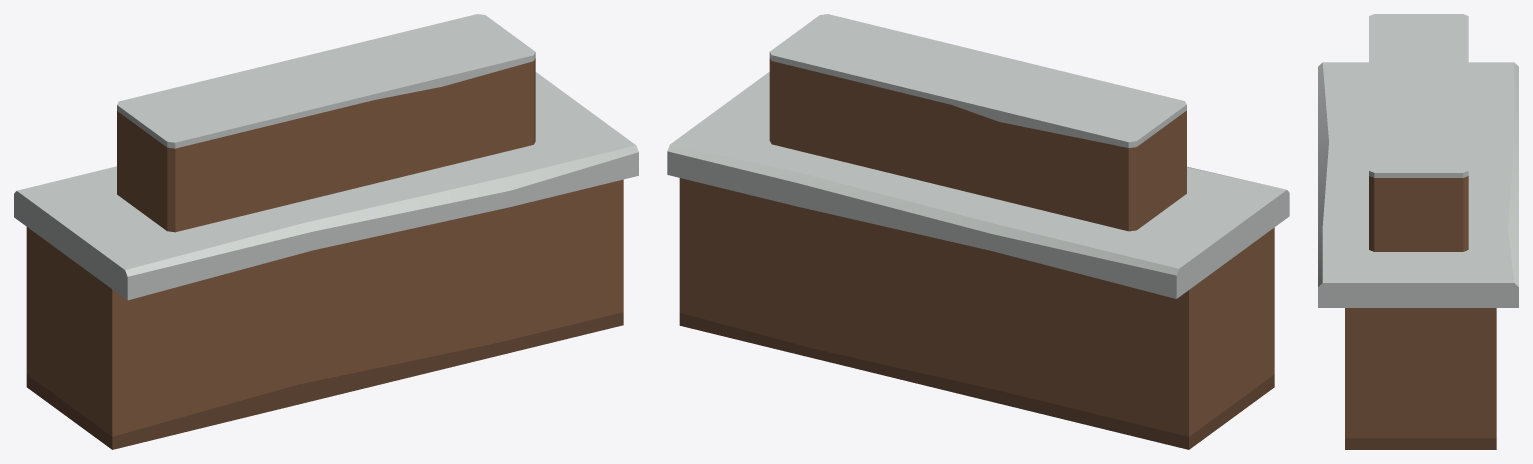
Rendered from Prop_TellerDesk_01.glb.
3 views of the same model, side by side, from view 1: azimuth 30°, elevation 25°; view 2: azimuth 150°, elevation 25°; view 3: azimuth 270°, elevation 25° (orthographic). The views are drawn at different scales.
Visible parts, largest first — view 1: SM_Prop_TellerDesk_01; view 2: SM_Prop_TellerDesk_01; view 3: SM_Prop_TellerDesk_01.
Part boxes in pixels (x1,y1,x2,y2): SM_Prop_TellerDesk_01: [14, 14, 638, 449]; SM_Prop_TellerDesk_01: [667, 14, 1289, 449]; SM_Prop_TellerDesk_01: [1318, 14, 1518, 449].
Bounding box in the file's own units: 2.5 × 1.3 × 0.9618.
Materials: 1 (1 with a texture image).
